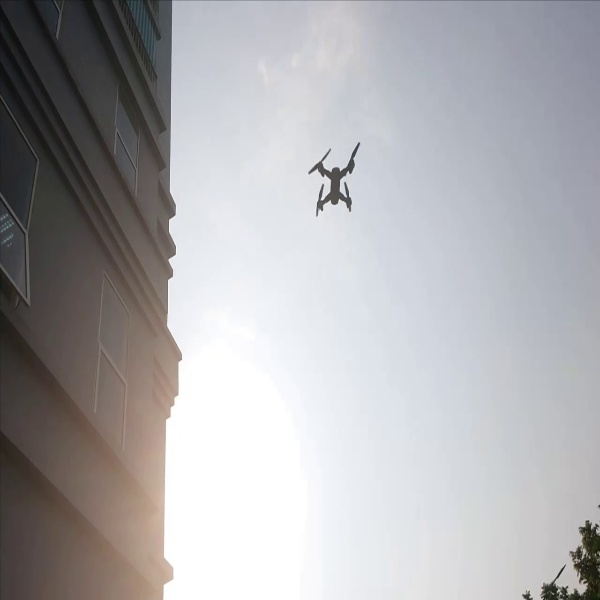drone: (300, 140, 365, 215)
